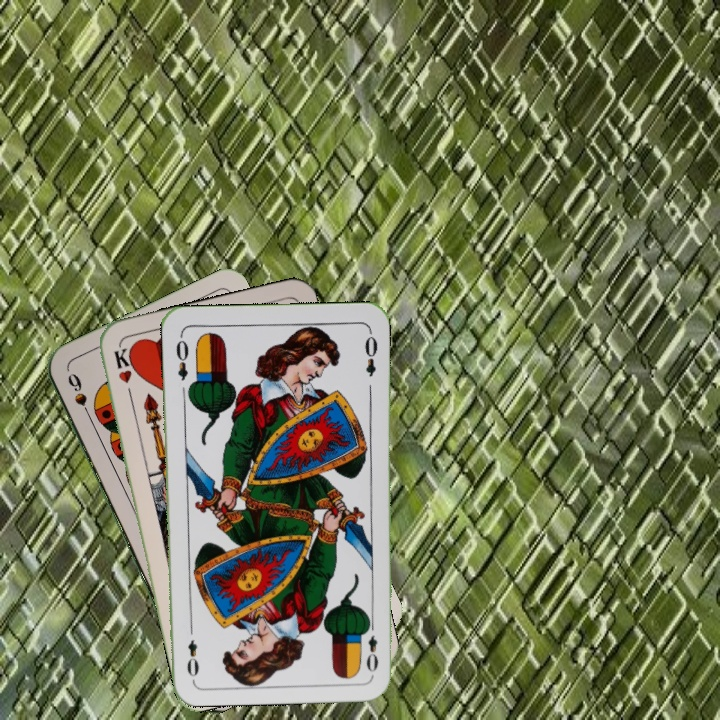EO: (361, 617, 381, 675), (172, 331, 191, 383)
HK: (110, 343, 136, 403)
S9: (63, 369, 96, 424)
